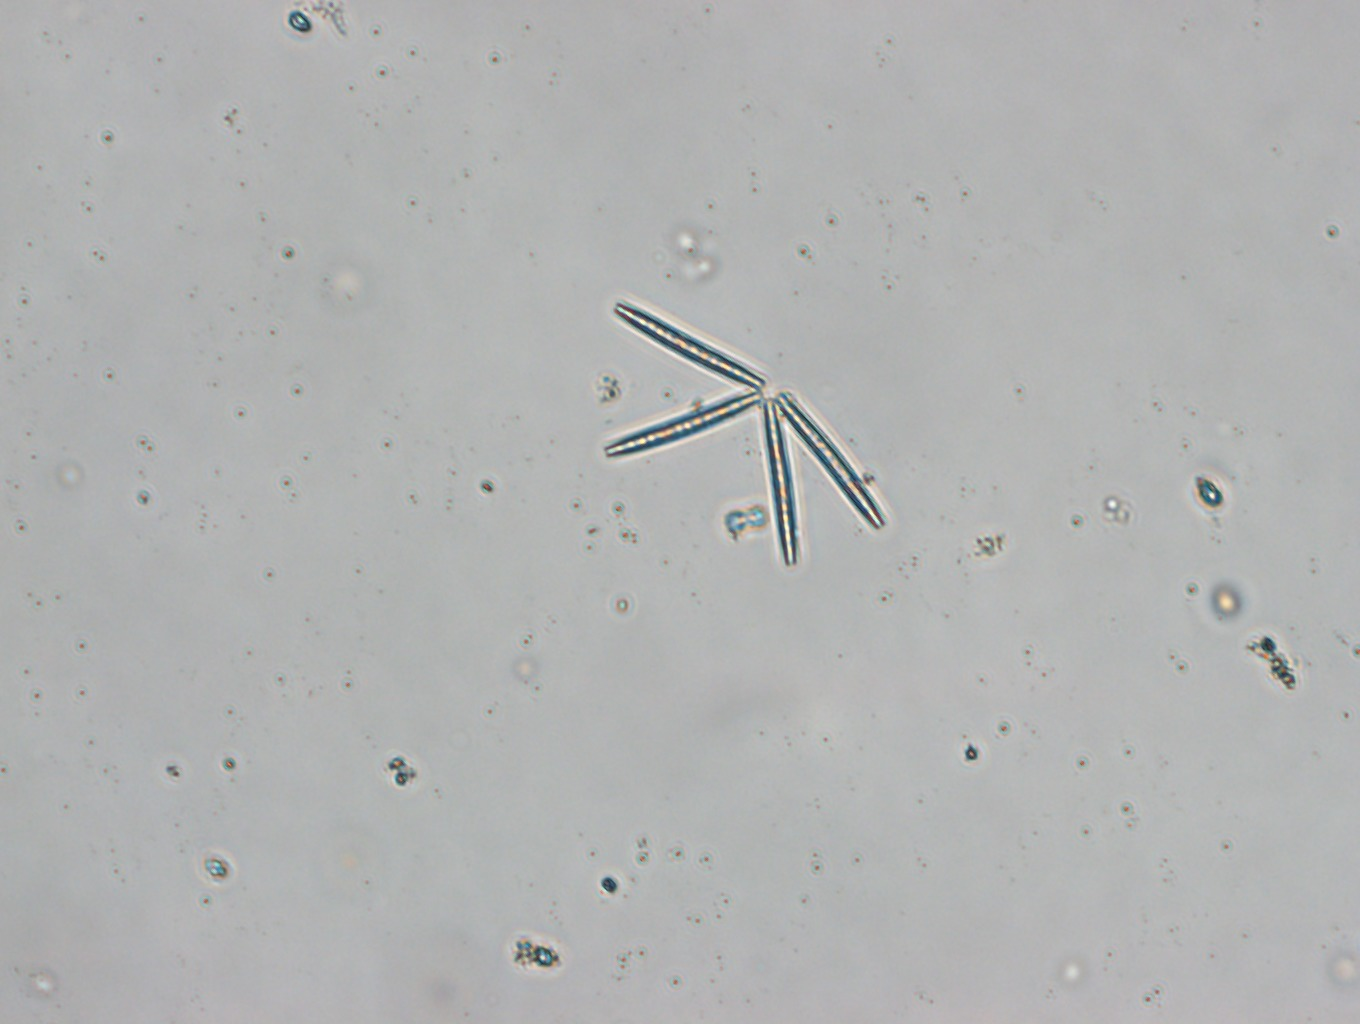thalassionema nitzschioides: (605, 300, 883, 565)
